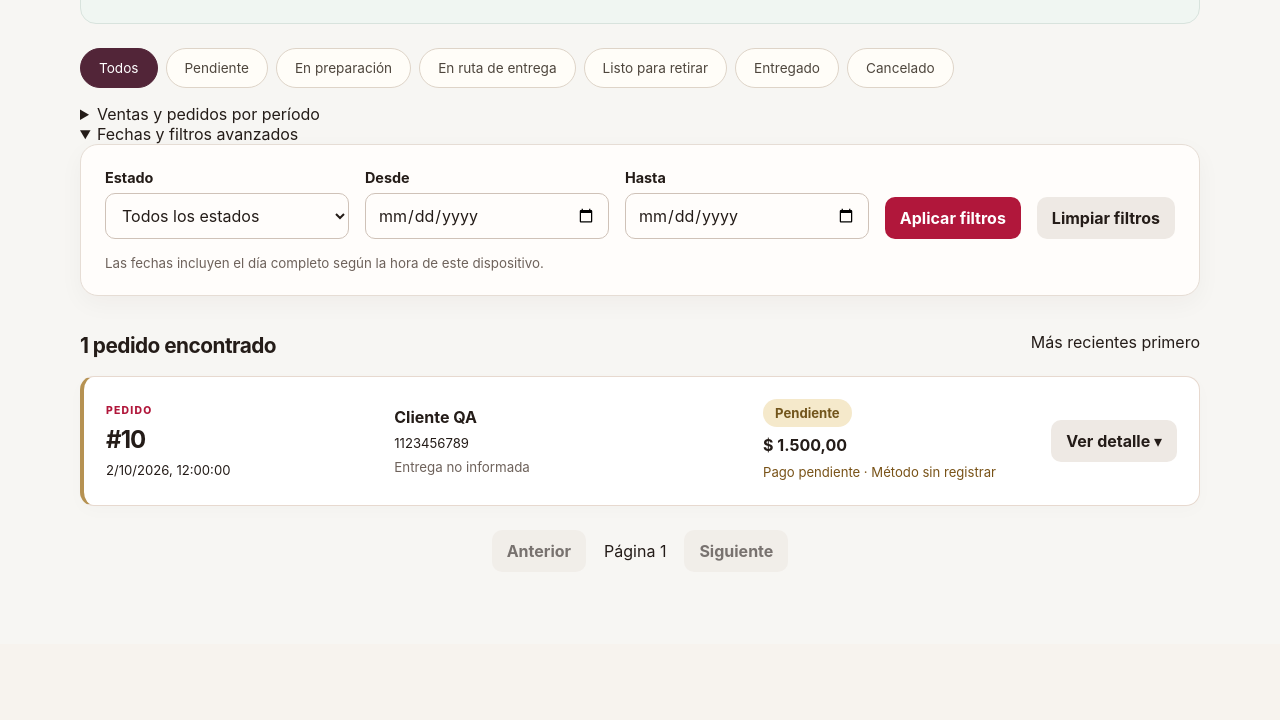
Test: conflicto conserva aviso y recupera el estado del servidor
(page scrolled)
Click the button with aria-label "Ver pedido #10": click(1114, 441) [1051,420,1177,462]
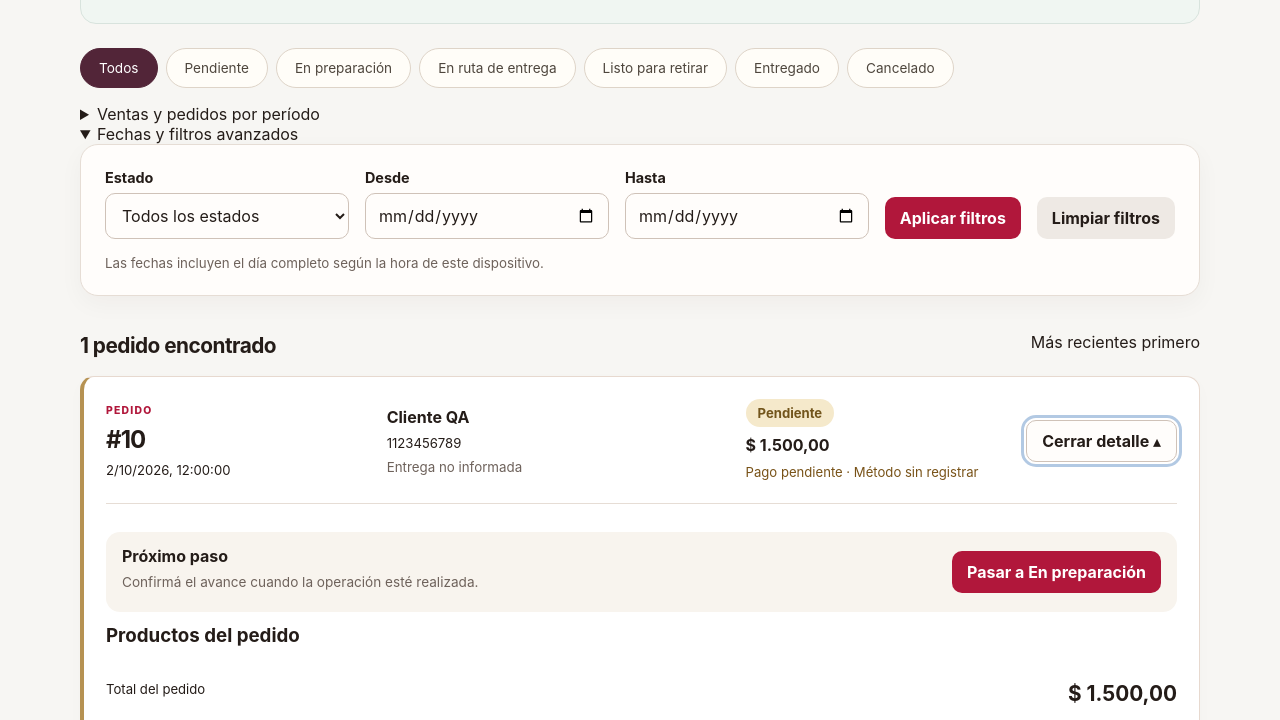
Click the button "Pasar a En preparación": click(1057, 572) [952,550,1161,592]
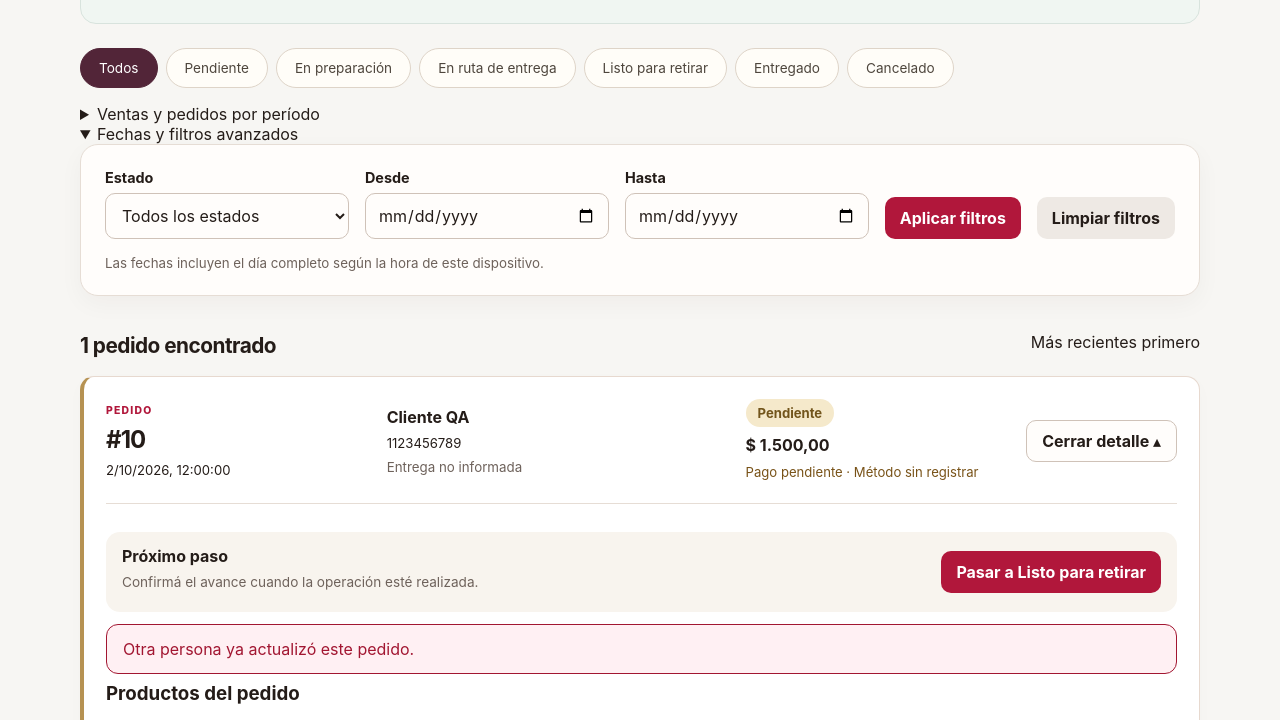
Check: the message shows "Otra persona", box [123,638,414,658]
Check: the button "Pasar a Listo para retirar" is shown, box [941,550,1161,592]
